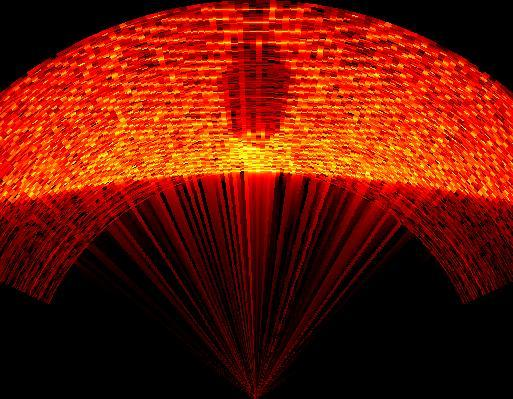box_crate: (217, 33, 298, 150)
